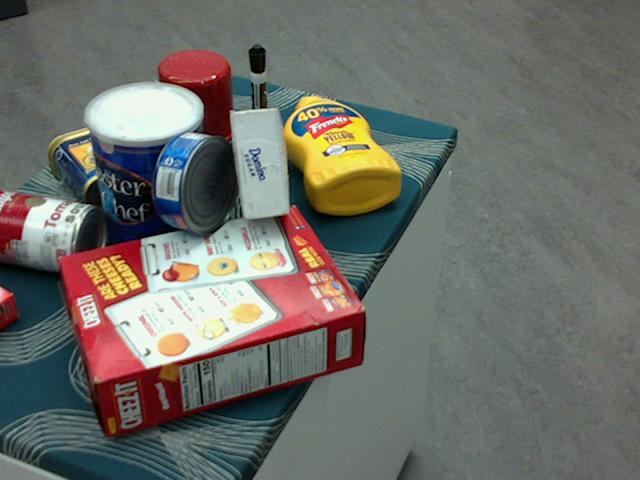cracker_box: (60, 205, 364, 436)
gelatin_box: (0, 285, 20, 330)
large_marker: (248, 44, 267, 148)
master_chef_can: (85, 83, 208, 268)
mug: (156, 50, 238, 149)
mustard_bottle: (282, 94, 401, 214)
potted_meat_can: (47, 117, 173, 215)
sugar_box: (233, 108, 289, 219)
tomato_soup_can: (0, 186, 105, 276)
tuna_fish_can: (151, 130, 239, 233)
